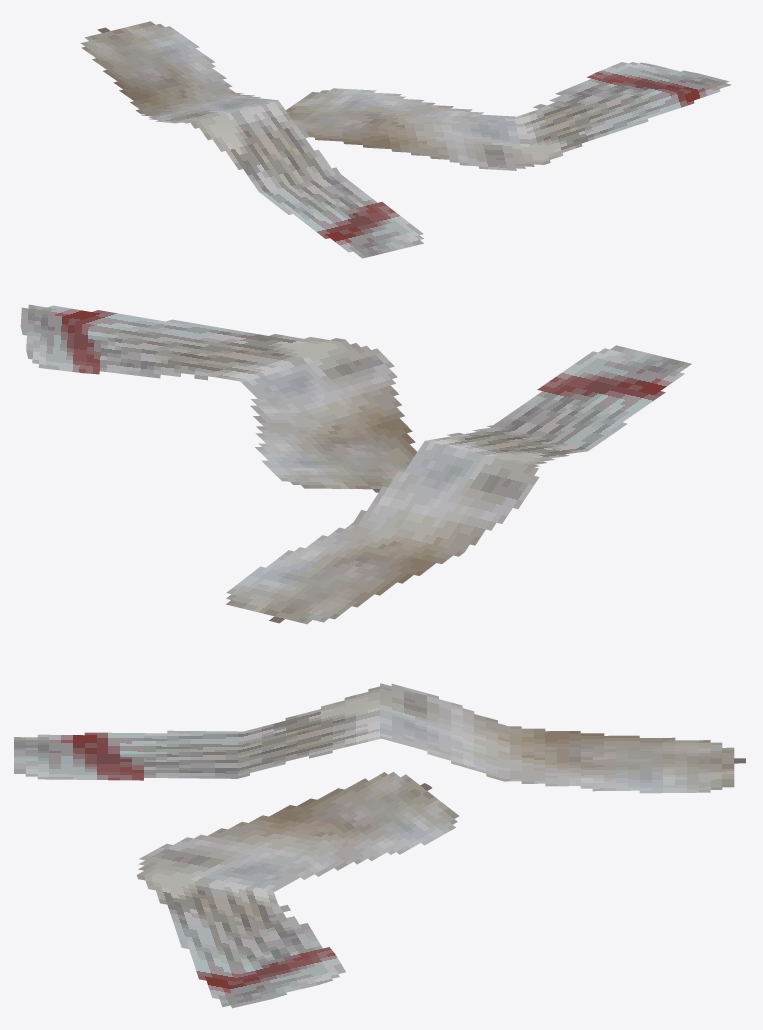
Rendered from socks.fbx.
3 views of the same model, one above another, from view 1: azimuth 30°, elevation 25°; view 2: azimuth 150°, elevation 25°; view 3: azimuth 270°, elevation 25° (orthographic). The views are drawn at different scales.
Visible parts, largest first — view 1: mesh_0; view 2: mesh_0; view 3: mesh_0.
Part boxes in pixels (<box>): mesh_0: <box>80,21,731,258</box>; mesh_0: <box>20,304,691,624</box>; mesh_0: <box>14,683,745,1008</box>.
Bounding box in the file's own units: 49.3 × 2.87 × 50.
1 material, 1 textured.
